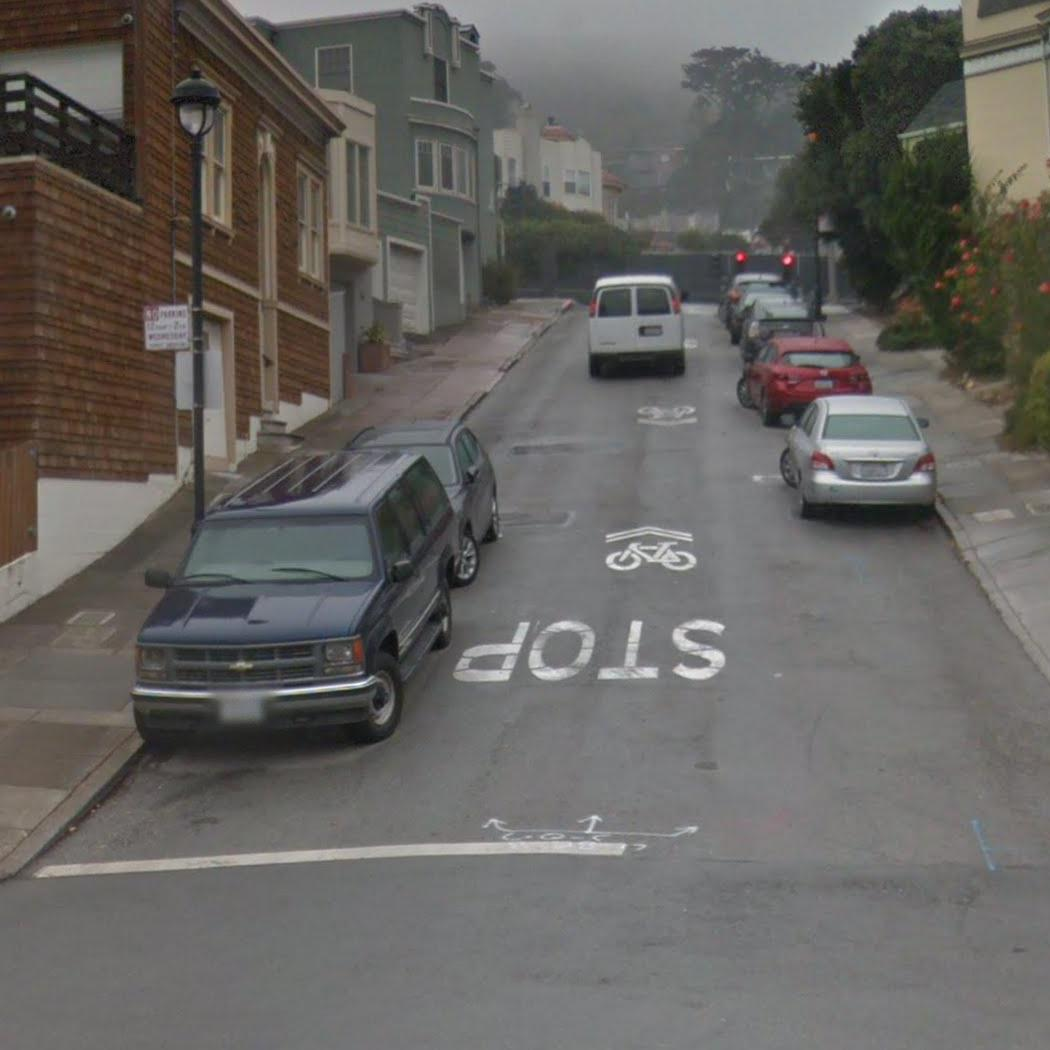No Parking: (140, 300, 196, 354)
